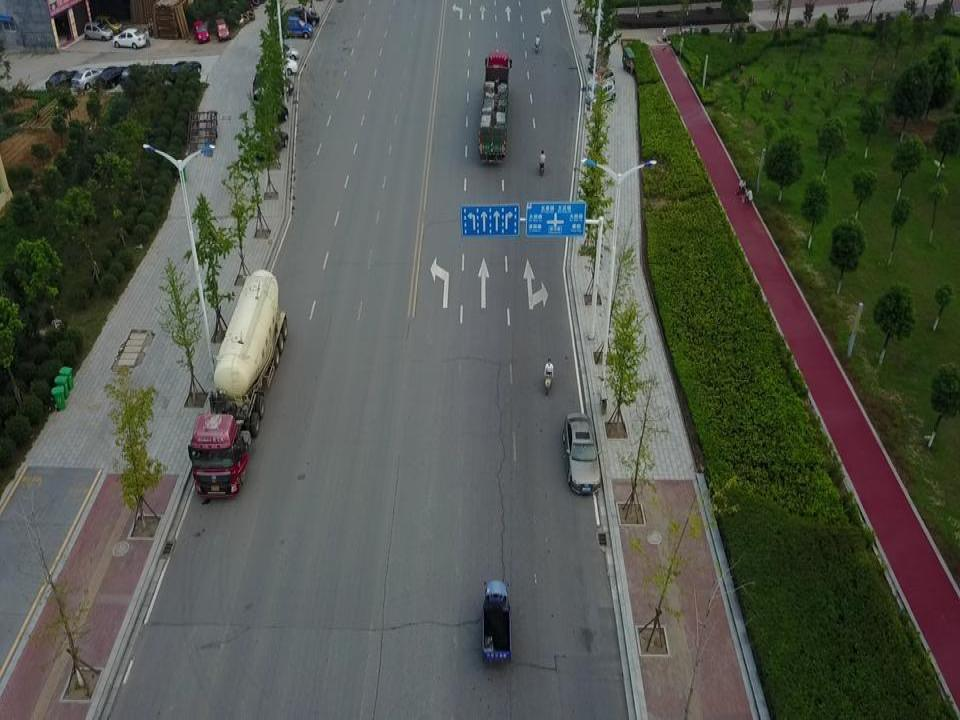car: (562, 413, 600, 494), (252, 69, 294, 96), (255, 131, 288, 160), (254, 100, 289, 125), (256, 55, 297, 76), (277, 16, 314, 39), (280, 7, 320, 28), (44, 69, 80, 92), (142, 64, 174, 89), (119, 64, 151, 88), (587, 65, 615, 92), (586, 79, 615, 104), (99, 64, 128, 88), (113, 28, 146, 49), (71, 68, 103, 89), (83, 20, 113, 41), (169, 62, 201, 81), (588, 45, 609, 72), (264, 44, 298, 60), (92, 16, 121, 33), (192, 19, 210, 44), (214, 18, 229, 42)
truck: (188, 270, 287, 498), (478, 50, 512, 162), (481, 581, 511, 663)
